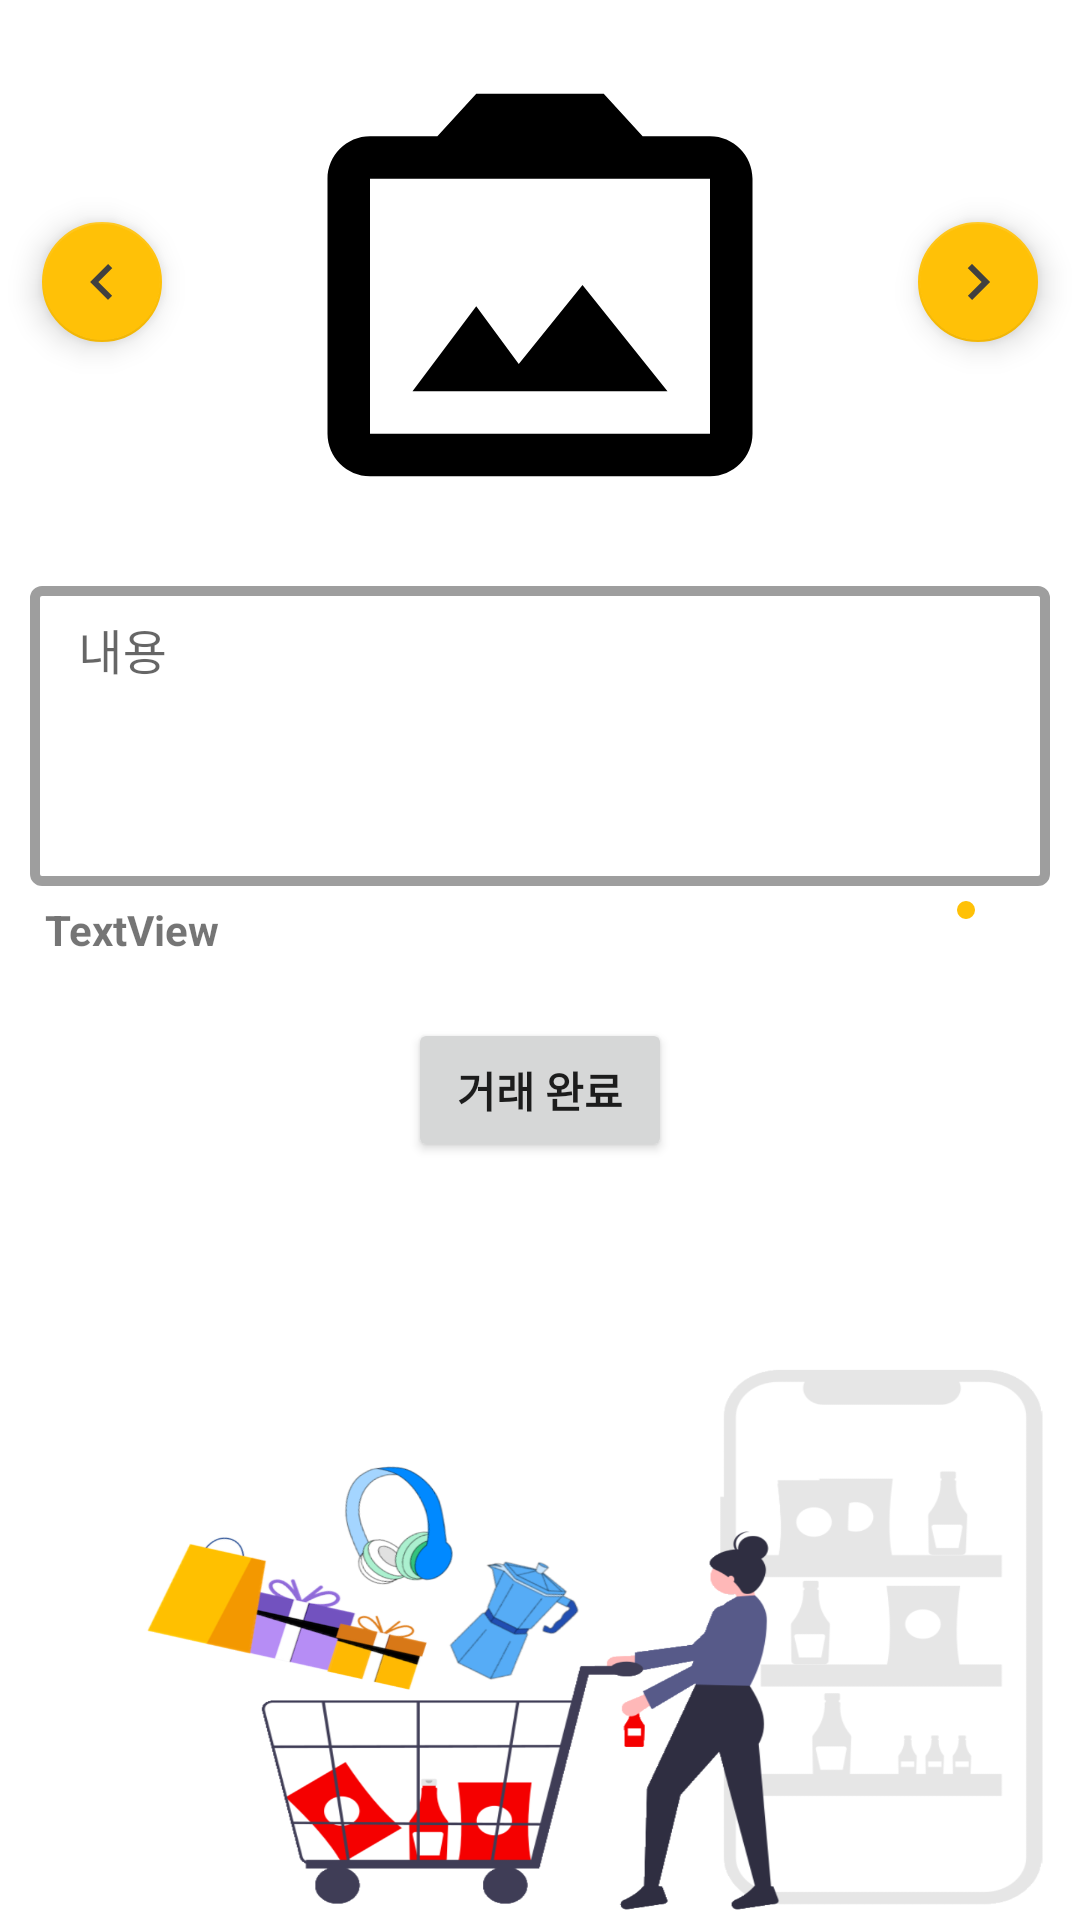

Locate icon controls on the screen. Image size 1080w x 1920h, boxes as bbox=(x1, y1, x2, y2).
left: bbox=(40, 222, 162, 343)
right: bbox=(918, 222, 1040, 343)
